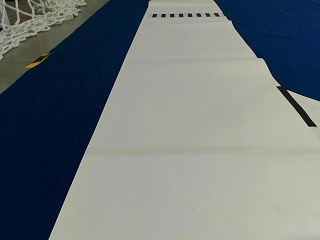crosswalk: (150, 11, 219, 17)
